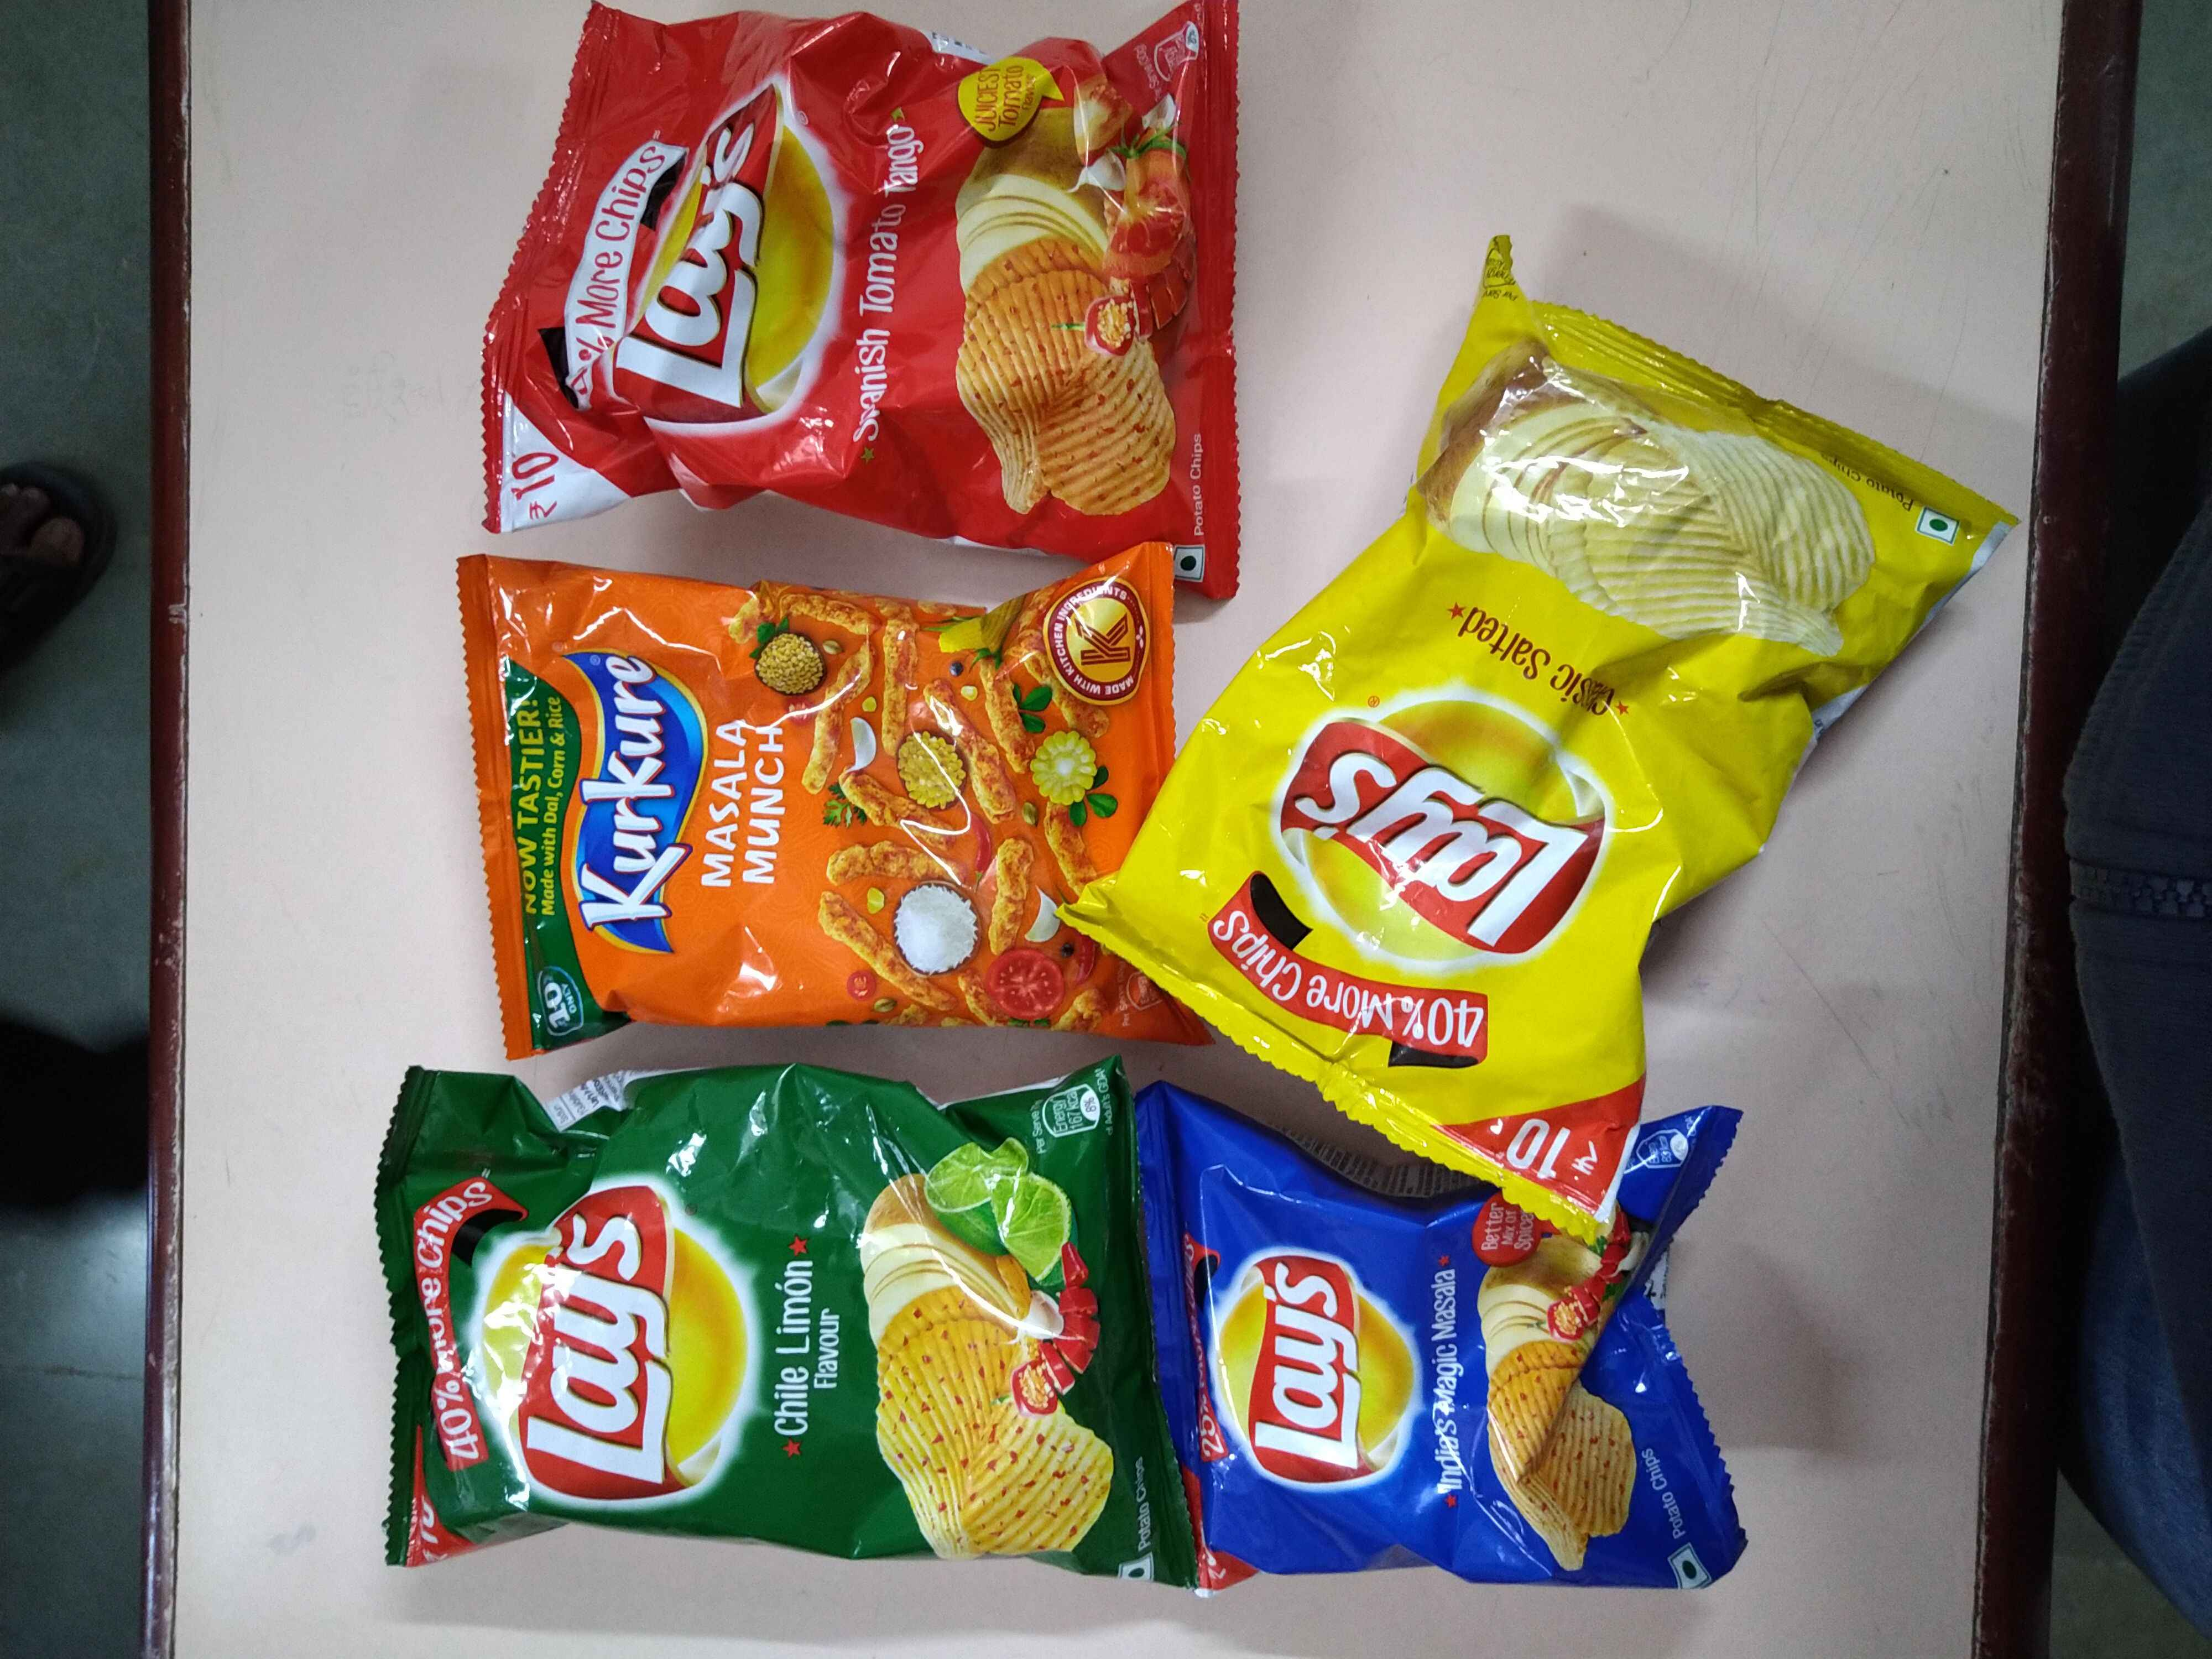Lays: (475, 1173, 756, 1513), (1282, 699, 1622, 976), (634, 78, 845, 430), (1198, 1237, 1432, 1502)
kurkure: (570, 641, 716, 962)
